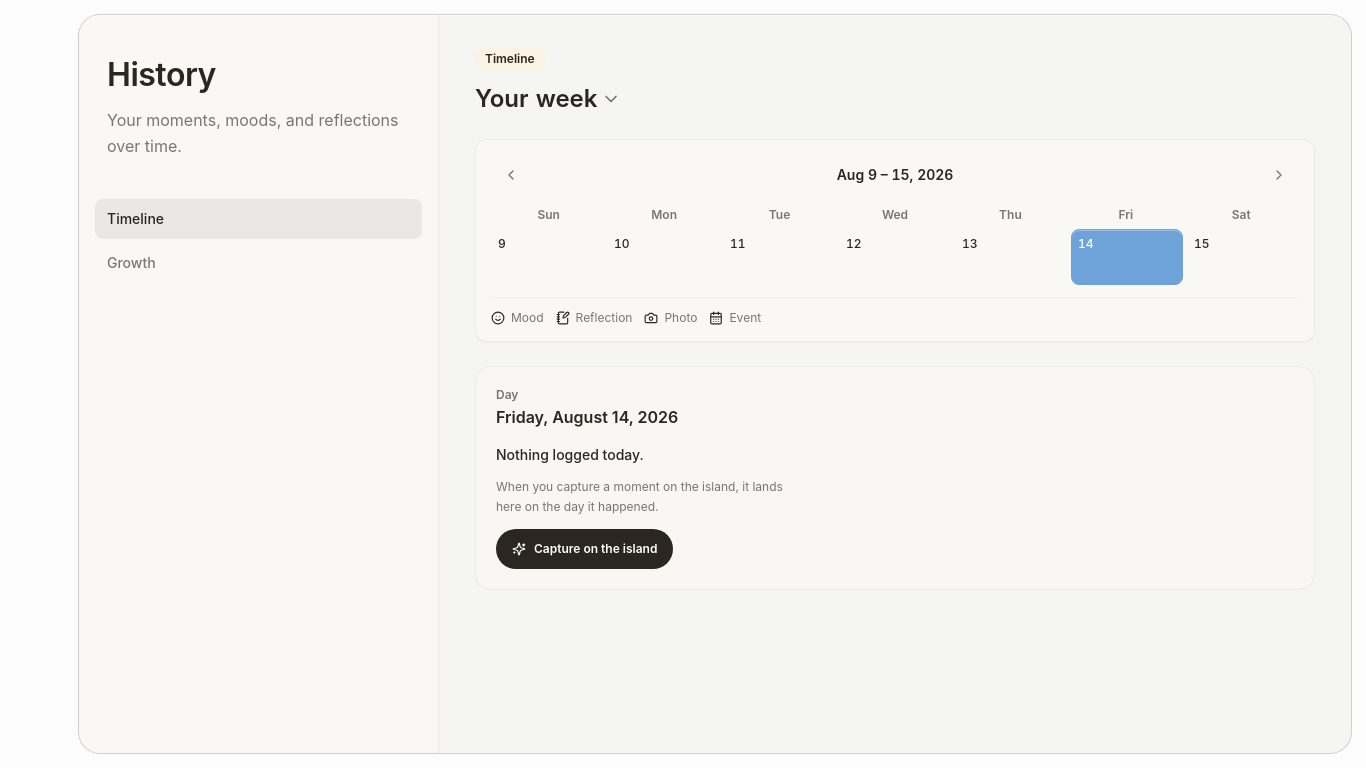
Test: HistorySheet (React) › switches to Growth tab and loads /api/growth/summary
Click the button "Growth".
click(131, 262)  # box [95, 243, 422, 283]
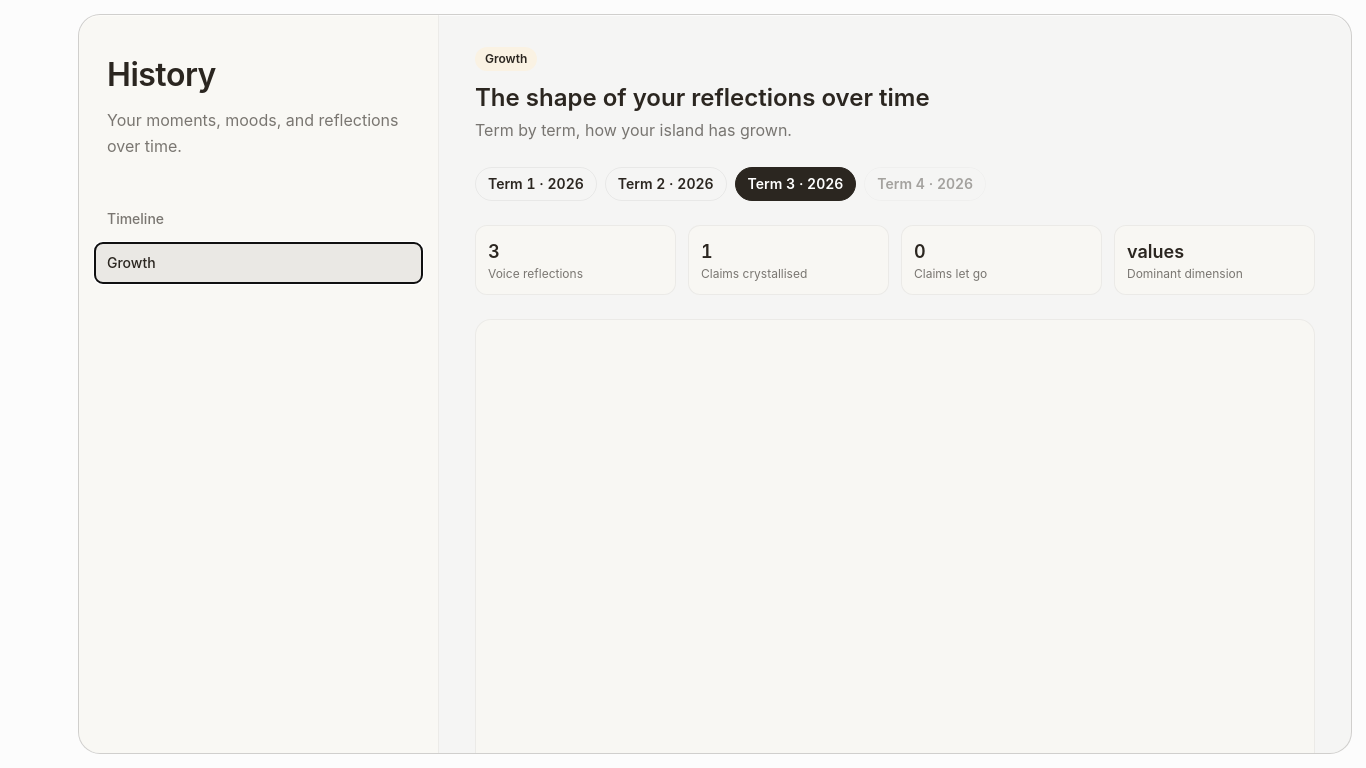
Check: the text "1" is shown, box [701, 241, 713, 262]
Check: the element with test id "calendar-pane" is gone
Check: the text "Voice reflections" is shown, box [488, 266, 583, 281]
